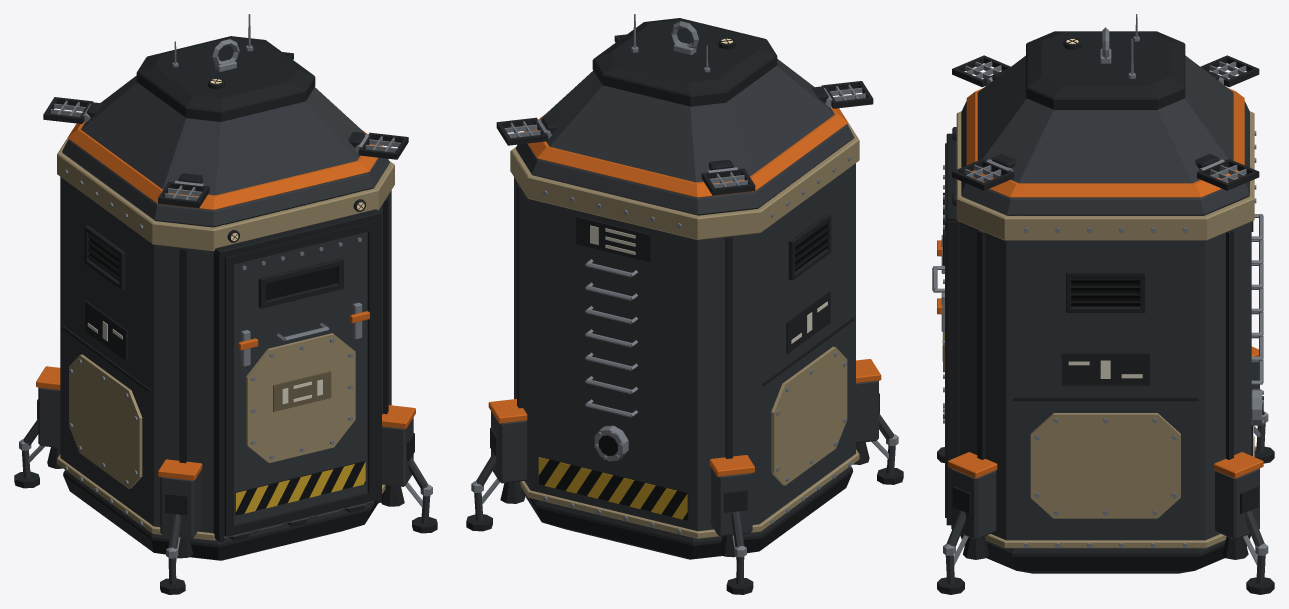
Rendered from drop_capsule.fbx.
3 views of the same model, side by side, from view 1: azimuth 30°, elevation 25°; view 2: azimuth 150°, elevation 25°; view 3: azimuth 270°, elevation 25° (orthographic). The views are drawn at different scales.
Parts seen in each view (by area): view 1: Body, Door, Fins; view 2: Body, Fins; view 3: Body, Fins, Door.
Boxes of the visible parts, x1,y1,x2,y2 form: Body: (14,14,437,594); Door: (224,220,377,536); Fins: (43,52,408,207); Body: (466,14,903,594); Fins: (496,34,873,195); Body: (937,14,1274,594); Fins: (952,55,1259,190); Door: (932,143,946,517).
Bounding box in the file's own units: 764 × 1255 × 774.
Materials: 6 (4 with a texture image).
